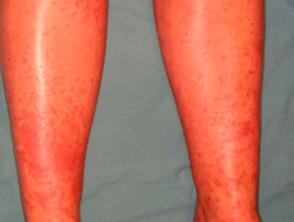SJS-TEN: (9, 76, 98, 221), (192, 107, 258, 222)
